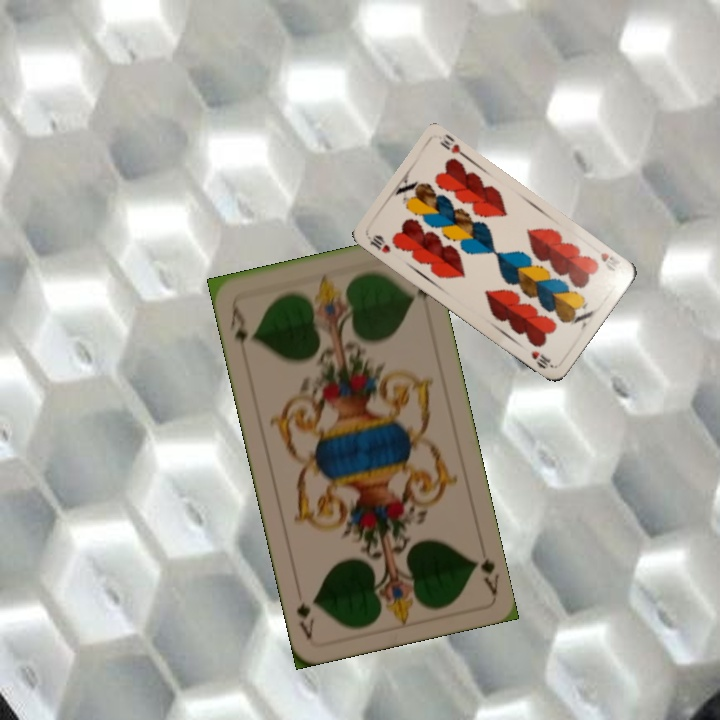GA: (225, 298, 251, 357), (469, 554, 501, 597)
H10: (364, 230, 393, 256), (596, 249, 618, 274)
